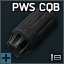PWS CQB 74 5.45x39 muzzle brake: (0, 0, 64, 64)
